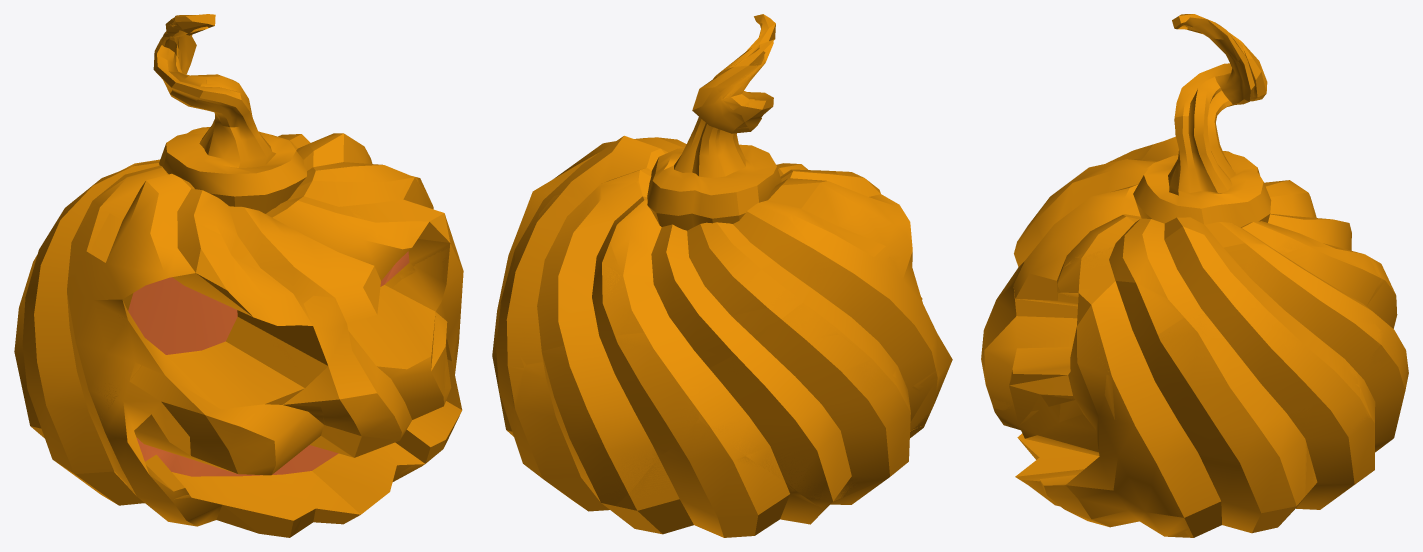
File: Crushed Pumpkin 1c.fbx
3 views of the same model, side by side, from view 1: azimuth 30°, elevation 25°; view 2: azimuth 150°, elevation 25°; view 3: azimuth 270°, elevation 25° (orthographic). The views are drawn at different scales.
Visible parts, largest first — view 1: EA_Pumpkin_01c, EA_Pumpkin_01c_cell, EA_Pumpkin_01c_cell.018, EA_Pumpkin_01c_cell.010, EA_Pumpkin_01c_cell.005, EA_Pumpkin_01c_cell.007, EA_Pumpkin_01c_cell.015, EA_Pumpkin_01c_cell.001, EA_Pumpkin_01c_cell.019; view 2: EA_Pumpkin_01c, EA_Pumpkin_01c_cell, EA_Pumpkin_01c_cell.005, EA_Pumpkin_01c_cell.017, EA_Pumpkin_01c_cell.002, EA_Pumpkin_01c_cell.011, EA_Pumpkin_01c_cell.014, EA_Pumpkin_01c_cell.003, EA_Pumpkin_01c_cell.023, EA_Pumpkin_01c_cell.010, EA_Pumpkin_01c_cell.016, EA_Pumpkin_01c_cell.001 (+3 smaller); view 3: EA_Pumpkin_01c_cell, EA_Pumpkin_01c, EA_Pumpkin_01c_cell.016, EA_Pumpkin_01c_cell.011, EA_Pumpkin_01c_cell.001, EA_Pumpkin_01c_cell.017, EA_Pumpkin_01c_cell.007, EA_Pumpkin_01c_cell.010, EA_Pumpkin_01c_cell.009, EA_Pumpkin_01c_cell.014, EA_Pumpkin_01c_cell.004, EA_Pumpkin_01c_cell.013.
Boxes of the visible parts, x1,y1,x2,y2 form: EA_Pumpkin_01c: (14,14,463,537); EA_Pumpkin_01c_cell: (25,133,462,526); EA_Pumpkin_01c_cell.018: (100,343,324,431); EA_Pumpkin_01c_cell.010: (91,207,289,358); EA_Pumpkin_01c_cell.005: (22,224,91,446); EA_Pumpkin_01c_cell.007: (303,248,449,426); EA_Pumpkin_01c_cell.015: (297,426,401,532); EA_Pumpkin_01c_cell.001: (293,134,455,278); EA_Pumpkin_01c_cell.019: (110,471,302,537); EA_Pumpkin_01c: (492,14,952,537); EA_Pumpkin_01c_cell: (495,136,952,535); EA_Pumpkin_01c_cell.005: (698,303,920,509); EA_Pumpkin_01c_cell.017: (513,332,698,505); EA_Pumpkin_01c_cell.002: (615,420,817,537); EA_Pumpkin_01c_cell.011: (511,191,642,350); EA_Pumpkin_01c_cell.014: (692,77,749,133); EA_Pumpkin_01c_cell.003: (715,44,759,110); EA_Pumpkin_01c_cell.023: (805,252,935,390); EA_Pumpkin_01c_cell.010: (835,171,909,261); EA_Pumpkin_01c_cell.016: (492,181,554,436); EA_Pumpkin_01c_cell.001: (554,144,650,198); EA_Pumpkin_01c_cell: (984,151,1401,537); EA_Pumpkin_01c: (981,14,1408,531); EA_Pumpkin_01c_cell.016: (1104,295,1313,526); EA_Pumpkin_01c_cell.011: (1240,246,1381,379); EA_Pumpkin_01c_cell.001: (1064,225,1247,368); EA_Pumpkin_01c_cell.017: (1356,260,1408,444); EA_Pumpkin_01c_cell.007: (991,261,1077,410); EA_Pumpkin_01c_cell.010: (1035,144,1152,237); EA_Pumpkin_01c_cell.009: (1305,384,1371,495); EA_Pumpkin_01c_cell.014: (1205,58,1267,124); EA_Pumpkin_01c_cell.004: (1020,400,1190,536); EA_Pumpkin_01c_cell.013: (1175,488,1349,537).
Size of the model in its own units: 234 by 278 by 234.
